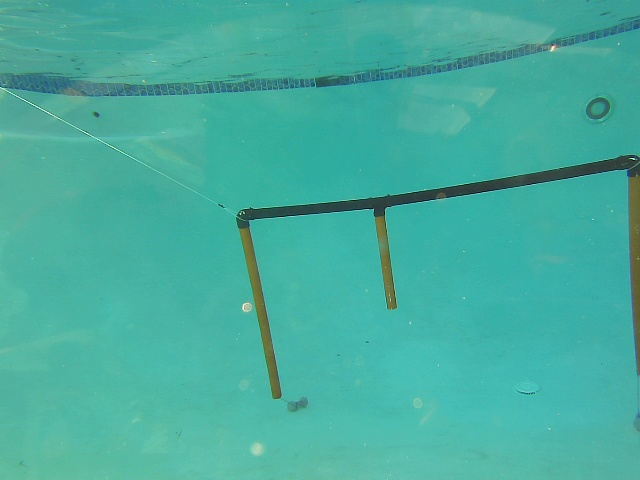Gate: (236, 225, 286, 404), (373, 210, 398, 313), (628, 170, 640, 366)
